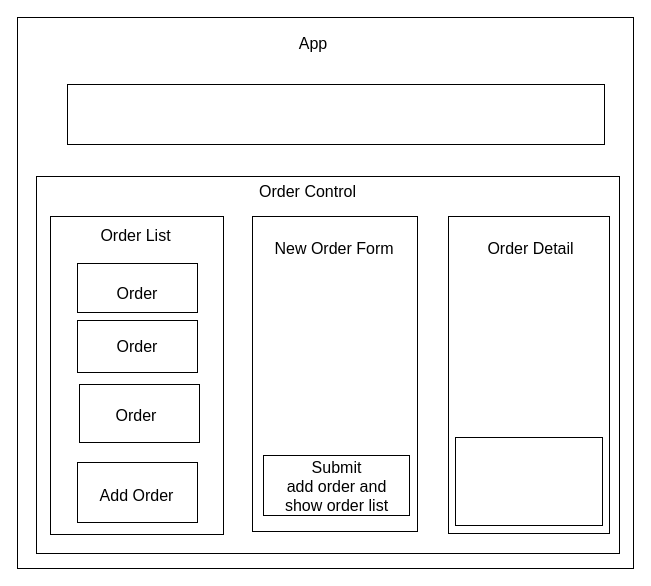
Image size: 651x586. Some labels were removed from this diagram. The centre of each missing label's shape, as x and y in pixels:
"Header" goes at point (335, 114).
"Text" goes at point (528, 481).
